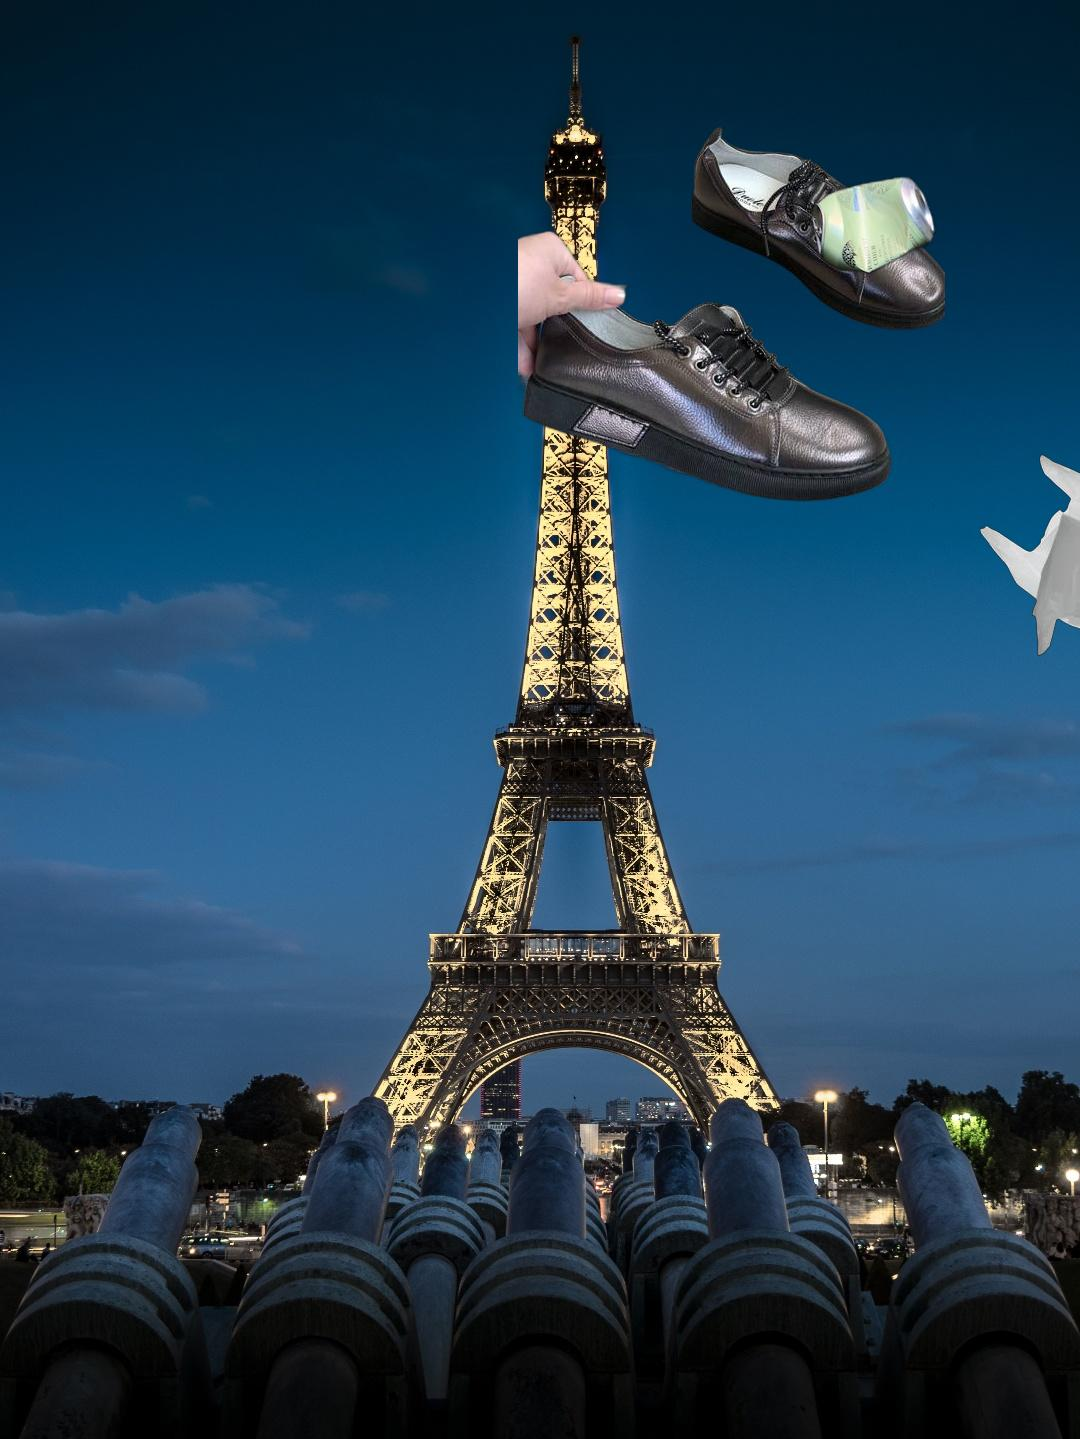metal-cans: (807, 170, 1080, 568)
plastic-bag: (979, 454, 1080, 673)
shoes: (518, 125, 945, 504)
